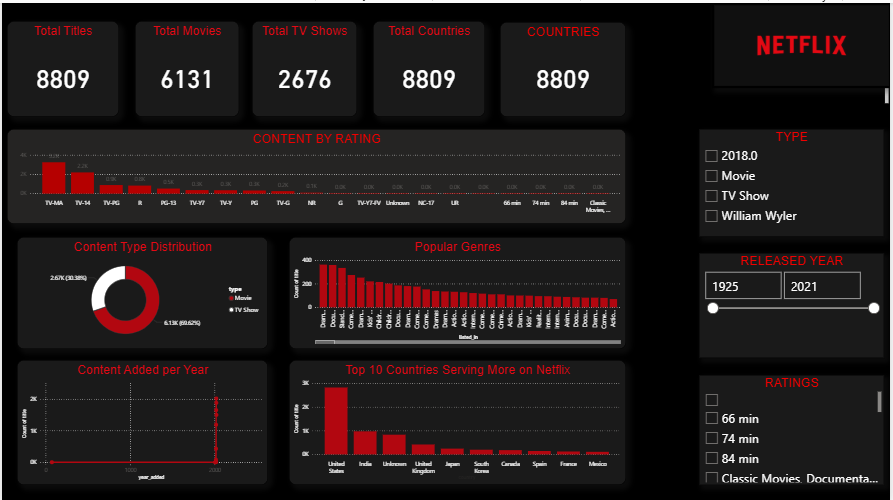

The page's visual inventory and layout, read from the dashboard file:
{"tool":"powerbi","page":{"name":"Page 1","canvas":[1920,1080],"ordinal":0},"visuals":[{"type":"card","title":"Total Titles","fields":{"Values":["CountNonNull(netflix_clean.show_id)"]},"box":[10.8,38.9,241.9,207.4],"z":0},{"type":"card","title":"Total Movies","fields":{"Values":["CountNonNull(netflix_clean.type)"]},"box":[287.3,38.9,224.6,207.4],"z":1000},{"type":"card","title":"Total TV Shows","fields":{"Values":["CountNonNull(netflix_clean.type)"]},"box":[540,38.9,226.8,207.4],"z":2000},{"type":"donutChart","title":"Content Type Distribution","fields":{"Category":["netflix_clean.type"],"Y":["Count(netflix_clean.title)"]},"box":[32.4,505.4,542.2,241.9],"z":3000},{"type":"card","title":"Total Countries","fields":{"Values":["CountNonNull(netflix_clean.country)"]},"box":[801.4,38.9,241.9,207.4],"z":4000},{"type":"columnChart","title":"Top 10 Countries Serving More on Netflix","fields":{"Category":["netflix_clean.country"],"Y":["CountNonNull(netflix_clean.title)"]},"box":[619.9,771.1,727.9,270],"z":5000},{"type":"columnChart","title":"Popular Genres","fields":{"Category":["netflix_clean.listed_in"],"Y":["CountNonNull(netflix_clean.title)"]},"box":[619.9,505.4,727.9,241.9],"z":6000},{"type":"lineChart","title":"Content Added per Year","fields":{"Category":["netflix_clean.year_added"],"Y":["CountNonNull(netflix_clean.title)"]},"box":[32.4,771.1,542.2,270],"z":7000},{"type":"textbox","box":[1473.1,155.5,447.1,90.7],"z":8000},{"type":"image","box":[1533.6,0,386.6,183.6],"z":9000},{"type":"clusteredColumnChart","title":"CONTENT BY RATING","fields":{"Category":["netflix_clean.rating"],"Y":["CountNonNull(netflix_clean.title)"]},"box":[10.8,272.2,1337,205.2],"z":9001},{"type":"card","title":"COUNTRIES","fields":{"Values":["CountNonNull(netflix_clean.country)"]},"box":[1075.7,41,272.2,205.2],"z":9002},{"type":"slicer","title":"TYPE","fields":{"Values":["netflix_clean.type"]},"box":[1505.5,272.2,399.6,233.3],"z":9003},{"type":"slicer","title":"RELEASED YEAR","fields":{"Values":["netflix_clean.release_year"]},"box":[1505.5,540,399.6,226.8],"z":9004},{"type":"slicer","title":"RATINGS","fields":{"Values":["netflix_clean.rating"]},"box":[1505.5,803.5,399.6,237.6],"z":9005}]}

Visuals, with their boxes in screenshot pixels (x1, y1, x2, y2), scaled from the page's 1920x1080 canvas onto the 893x500 screenshot:
"Total Titles" card: bbox=[5, 18, 118, 114]
"Total Movies" card: bbox=[134, 18, 238, 114]
"Total TV Shows" card: bbox=[251, 18, 357, 114]
"Content Type Distribution" donutChart: bbox=[15, 234, 267, 346]
"Total Countries" card: bbox=[373, 18, 485, 114]
"Top 10 Countries Serving More on Netflix" columnChart: bbox=[288, 357, 627, 482]
"Popular Genres" columnChart: bbox=[288, 234, 627, 346]
"Content Added per Year" lineChart: bbox=[15, 357, 267, 482]
textbox: bbox=[685, 72, 892, 114]
image: bbox=[713, 0, 892, 85]
"CONTENT BY RATING" clusteredColumnChart: bbox=[5, 126, 627, 221]
"COUNTRIES" card: bbox=[500, 19, 627, 114]
"TYPE" slicer: bbox=[700, 126, 886, 234]
"RELEASED YEAR" slicer: bbox=[700, 250, 886, 355]
"RATINGS" slicer: bbox=[700, 372, 886, 482]
